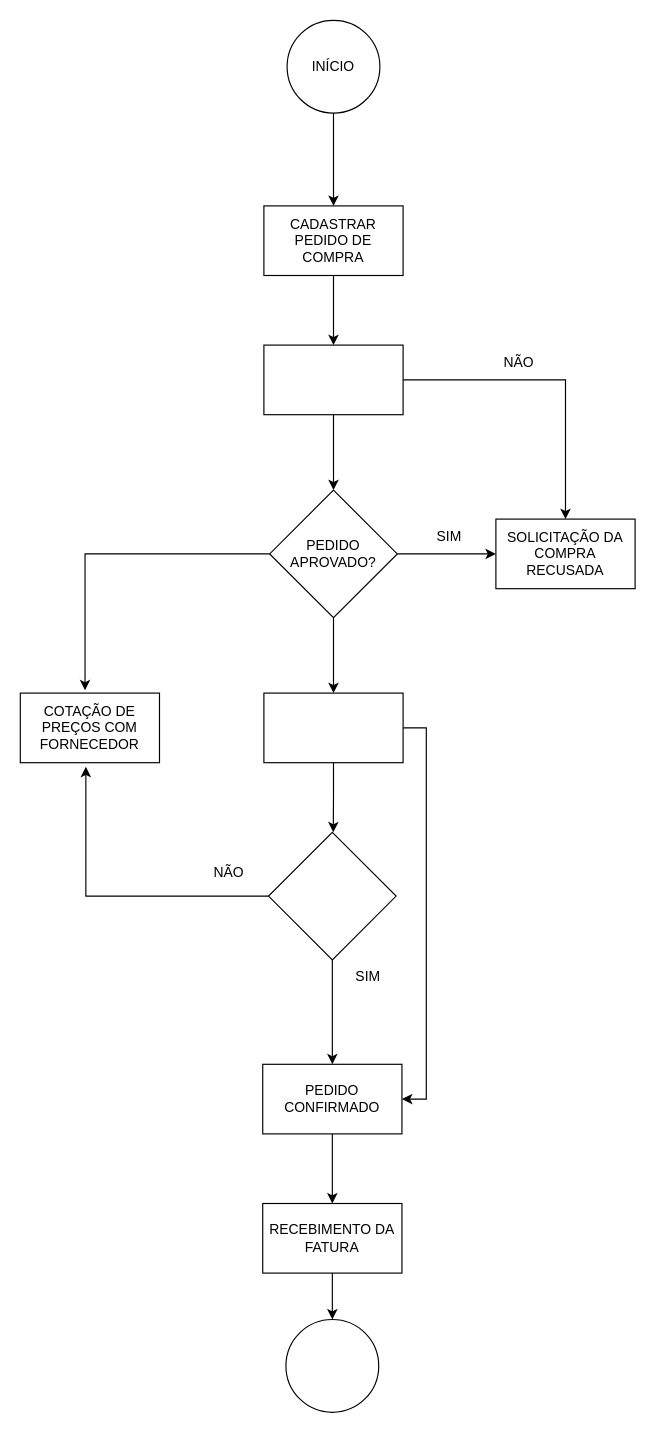
Image size: 655x1433. Some labels were removed from this diagram. Each missing label, with the centre of its shape:
"ANÁLISE DA NECESSIDADE" belongs at [333,379].
"COMPRA FINALIZADA" belongs at [332,1365].
"EMITIR PEDIDO DA COMPRA" belongs at [333,727].
"FORNECEDOR CONFIRMA" belongs at [331,895].
